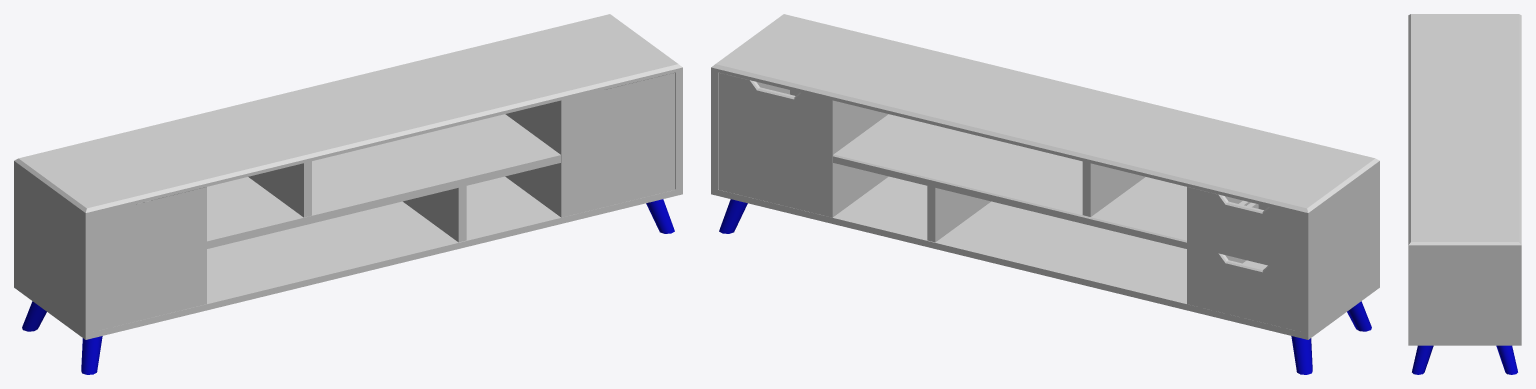
Rendered from tv cabinet.fbx.
3 renders of one model, left to right at view 1: azimuth 30°, elevation 25°; view 2: azimuth 150°, elevation 25°; view 3: azimuth 270°, elevation 25°, orthographic. The views are drawn at different scales.
Parts seen in each view (by area): view 1: Cube.025; view 2: Cube.025; view 3: Cube.025.
Part boxes in pixels (bbox=[...]): Cube.025: bbox=[14, 14, 682, 374]; Cube.025: bbox=[711, 14, 1379, 374]; Cube.025: bbox=[1408, 14, 1521, 374].
Size of the model in its own units: 237 by 63.83 by 49.23.
